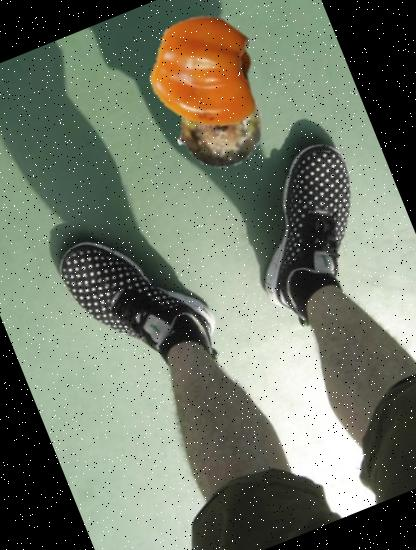Cactus: (162, 69, 277, 184)
Pepper: (128, 0, 287, 151)
